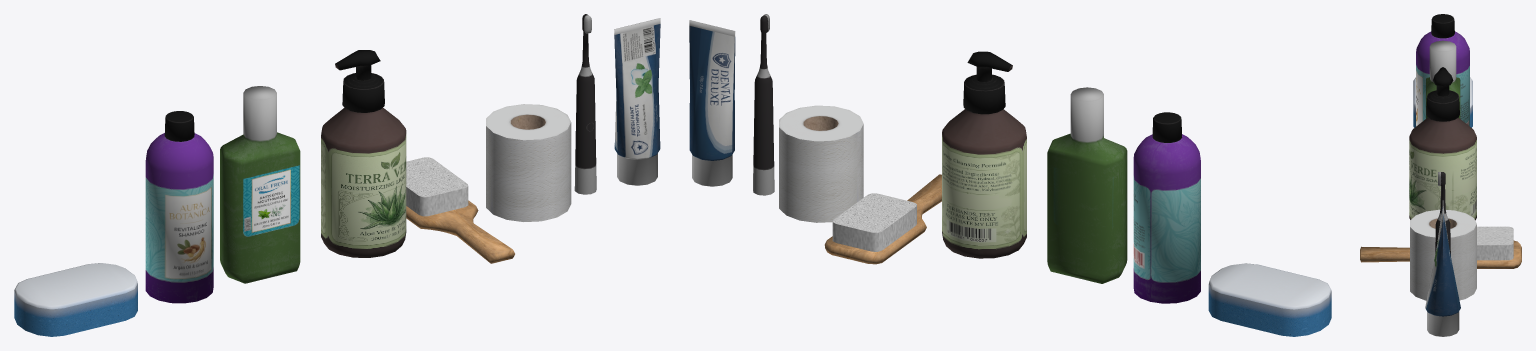
Rendered from Bathroom_props_all.fbx.
3 renders of one model, left to right at view 1: azimuth 30°, elevation 25°; view 2: azimuth 150°, elevation 25°; view 3: azimuth 270°, elevation 25°, orthographic. The views are drawn at different scales.
Parts seen in each view (by area): view 1: PROP_Soap, PROP_Mouthwash, PROP_Shampoo, PROP_Toilet_paper, PROP_Sponge, PROP_Toothpaste, PROP_HairBrush, PROP_ElectricToothbrush; view 2: PROP_Soap, PROP_Mouthwash, PROP_Shampoo, PROP_Toilet_paper, PROP_Sponge, PROP_Toothpaste, PROP_HairBrush, PROP_ElectricToothbrush; view 3: PROP_Soap, PROP_Toilet_paper, PROP_Toothpaste, PROP_Shampoo, PROP_HairBrush, PROP_Mouthwash, PROP_ElectricToothbrush, PROP_Sponge.
Part boxes in pixels (<box>): PROP_Soap: <box>321,50,406,257</box>; PROP_Mouthwash: <box>220,86,300,283</box>; PROP_Shampoo: <box>145,111,213,303</box>; PROP_Toilet_paper: <box>486,104,571,221</box>; PROP_Sponge: <box>14,263,137,336</box>; PROP_Toothpaste: <box>614,18,660,185</box>; PROP_HairBrush: <box>406,157,514,263</box>; PROP_ElectricToothbrush: <box>574,14,596,194</box>; PROP_Soap: <box>942,51,1026,258</box>; PROP_Mouthwash: <box>1047,87,1127,283</box>; PROP_Shampoo: <box>1133,112,1200,303</box>; PROP_Toilet_paper: <box>779,105,863,222</box>; PROP_Sponge: <box>1208,263,1331,336</box>; PROP_Toothpaste: <box>689,20,735,186</box>; PROP_HairBrush: <box>824,174,941,264</box>; PROP_ElectricToothbrush: <box>753,14,774,195</box>; PROP_Soap: <box>1409,67,1476,220</box>; PROP_Toilet_paper: <box>1410,209,1476,300</box>; PROP_Toothpaste: <box>1425,200,1460,336</box>; PROP_Shampoo: <box>1416,14,1469,126</box>; PROP_HairBrush: <box>1360,226,1521,268</box>; PROP_Mouthwash: <box>1426,40,1460,118</box>; PROP_ElectricToothbrush: <box>1435,172,1450,255</box>; PROP_Sponge: <box>1413,77,1472,127</box>.
Bounding box in the file's own units: 1.11 × 0.3185 × 0.3094.
